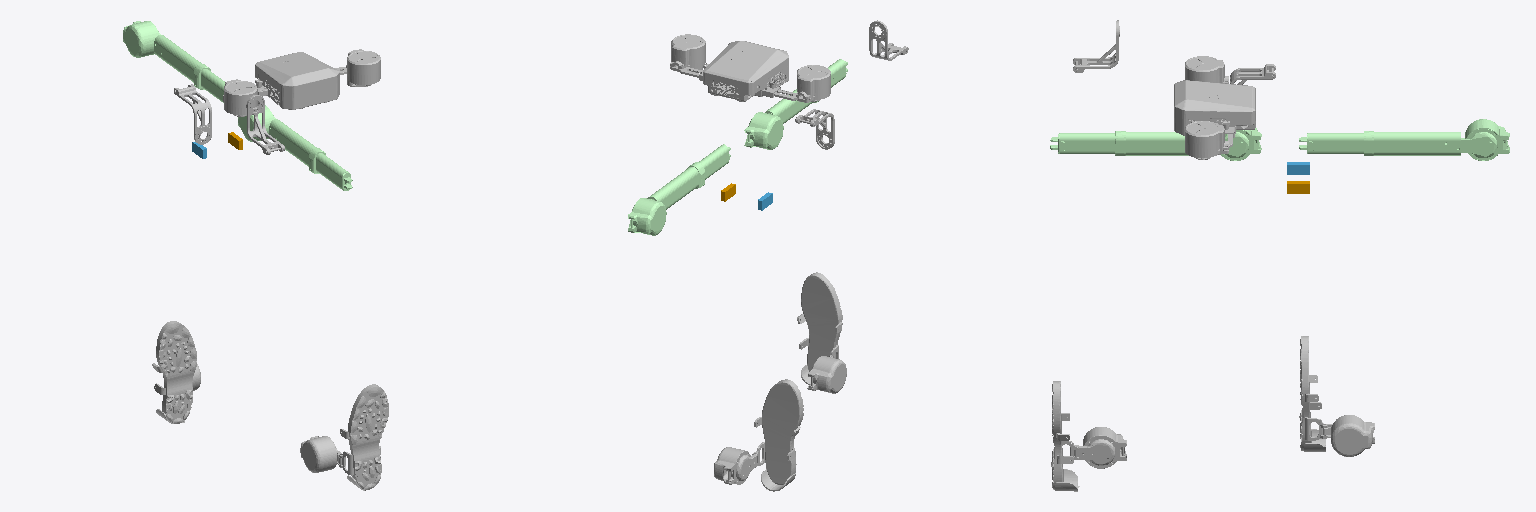
--- What the picture shows (computed from the rendered views, not written in the file) ---
The picture shows the robot from 3 angles, left to right: view 1: azimuth 30°, elevation 25°; view 2: azimuth 150°, elevation 25°; view 3: azimuth 270°, elevation 25°; orthographic projection.
Robot: exo — 12 links, 11 joints (8 revolute, 3 fixed); root link world; default pose: all joints at 0.
Links seen in each view (by area): view 1: waist_link, r_foot_link, l_foot_link, l_thigh_link, r_thigh_link, l_pel_link, r_pel_link; view 2: waist_link, l_foot_link, r_foot_link, l_thigh_link, r_thigh_link, l_pel_link, r_pel_link; view 3: waist_link, l_thigh_link, r_thigh_link, l_foot_link, r_foot_link, r_pel_link, l_pel_link.
Link boxes in pixels (left/top/right/bottom): waist_link: left=223, top=49, right=380, bottom=116; r_foot_link: left=300, top=384, right=388, bottom=490; l_foot_link: left=152, top=321, right=200, bottom=423; l_thigh_link: left=123, top=21, right=224, bottom=102; r_thigh_link: left=238, top=105, right=352, bottom=190; l_pel_link: left=174, top=84, right=211, bottom=144; r_pel_link: left=246, top=95, right=284, bottom=154; waist_link: left=670, top=34, right=830, bottom=102; l_foot_link: left=714, top=379, right=803, bottom=491; r_foot_link: left=797, top=272, right=846, bottom=393; l_thigh_link: left=628, top=144, right=730, bottom=235; r_thigh_link: left=744, top=59, right=847, bottom=149; l_pel_link: left=795, top=109, right=834, bottom=149; r_pel_link: left=869, top=20, right=908, bottom=60; waist_link: left=1174, top=56, right=1255, bottom=159; l_thigh_link: left=1299, top=119, right=1509, bottom=160; r_thigh_link: left=1050, top=128, right=1261, bottom=160; l_foot_link: left=1299, top=336, right=1374, bottom=456; r_foot_link: left=1051, top=381, right=1126, bottom=491; r_pel_link: left=1073, top=20, right=1119, bottom=72; l_pel_link: left=1230, top=64, right=1275, bottom=84.
Bounding box of the posed robot: 0.4792 × 1.02 × 1.04 m (x, y, z).
7 mesh visuals loaded from 5 distinct referenced files (4 binary STL); not drawn: 2 (reference not matched to a file when rendering).

robot.urdf — exo:
<?xml version="1.0" ?>
<!-- =================================================================================== -->
<!-- |    This document was autogenerated by xacro from exo.xacro                      | -->
<!-- |    EDITING THIS FILE BY HAND IS NOT RECOMMENDED                                 | -->
<!-- =================================================================================== -->
<robot name="exo">
  <material name="silver">
    <color rgba="0.8 0.8 0.8 1.0"/>
  </material>
  <material name="blue">
    <color rgba="0.8 1 0.8 1.0"/>
  </material>
  <material name="green">
    <color rgba="0.8 0.8 1 1.0"/>
  </material>
  <!-- Human Boday Paramters -->
  \
  
  <link name="d435_front">
    <collision>
      <origin rpy="0 0 0" xyz="0 0 0"/>
      <geometry>
        <box size="0.025 0.05 0.025"/>
      </geometry>
    </collision>
    <visual>
      <origin rpy="0 0 0" xyz="0 0 0"/>
      <geometry>
        <box size="0.0125 0.05 0.025"/>
      </geometry>
      <material name="red"/>
    </visual>
    <inertial>
      <mass value="1e-5"/>
      <origin rpy="0 0 0" xyz="0 0 0"/>
      <inertia ixx="1e-6" ixy="0" ixz="0" iyy="1e-6" iyz="0" izz="1e-6"/>
    </inertial>
  </link>
  <joint name="d435_front_joint" type="fixed">
    <axis xyz="0 1 0"/>
    <origin rpy="0 0 0" xyz="0.05 0 -0.234"/>
    <parent link="l_thigh_link"/>
    <child link="d435_front"/>
  </joint>
  <gazebo reference="d435_front">
    <sensor name="d435_front" type="depth">
      <always_on>true</always_on>
      <visualize>false</visualize>
      <camera>
        <horizontal_fov>1.3439</horizontal_fov>
        <image>
          <width>1920</width>
          <height>1080</height>
          <format>R8G8B8</format>
        </image>
        <depth_camera/>
        <clip>
          <near>0.03</near>
          <far>100</far>
        </clip>
      </camera>
      <plugin filename="libgazebo_ros_openni_kinect.so" name="camera_controller">
        <baseline>0.2</baseline>
        <alwaysOn>true</alwaysOn>
        <updateRate>30.0</updateRate>
        <cameraName>d435_front</cameraName>
        <frameName>d435_front</frameName>
        <imageTopicName>d435_front/rgb/image_raw</imageTopicName>
        <depthImageTopicName>d435_front/depth/image_raw</depthImageTopicName>
        <pointCloudTopicName>d435_front/depth/points</pointCloudTopicName>
        <cameraInfoTopicName>d435_front/rgb/camera_info</cameraInfoTopicName>
        <depthImageCameraInfoTopicName>d435_front/depth/camera_info</depthImageCameraInfoTopicName>
        <pointCloudCutoff>0.1</pointCloudCutoff>
        <hackBaseline>0.01</hackBaseline>
        <distortionK1>0.0</distortionK1>
        <distortionK2>0.0</distortionK2>
        <distortionK3>0.0</distortionK3>
        <distortionT1>0.0</distortionT1>
        <distortionT2>0.0</distortionT2>
        <CxPrime>0.0</CxPrime>
        <Cx>0.0</Cx>
        <Cy>0.0</Cy>
        <focalLength>0</focalLength>
        <hackBaseline>0</hackBaseline>
      </plugin>
    </sensor>
  </gazebo>
  <link name="d435_back">
    <collision>
      <origin rpy="0 0 0" xyz="0 0 0"/>
      <geometry>
        <box size="0.025 0.05 0.025"/>
      </geometry>
    </collision>
    <visual>
      <origin rpy="0 0 0" xyz="0 0 0"/>
      <geometry>
        <box size="0.0125 0.05 0.025"/>
      </geometry>
      <material name="red"/>
    </visual>
    <inertial>
      <mass value="1e-5"/>
      <origin rpy="0 0 0" xyz="0 0 0"/>
      <inertia ixx="1e-6" ixy="0" ixz="0" iyy="1e-6" iyz="0" izz="1e-6"/>
    </inertial>
  </link>
  <joint name="d435_back_joint" type="fixed">
    <axis xyz="0 1 0"/>
    <origin rpy="0 0 3.141592653589793" xyz="-0.05 0 -0.234"/>
    <parent link="l_thigh_link"/>
    <child link="d435_back"/>
  </joint>
  <gazebo reference="d435_back">
    <sensor name="d435_back" type="depth">
      <always_on>true</always_on>
      <visualize>false</visualize>
      <camera>
        <horizontal_fov>1.3439</horizontal_fov>
        <image>
          <width>1920</width>
          <height>1080</height>
          <format>R8G8B8</format>
        </image>
        <depth_camera/>
        <clip>
          <near>0.03</near>
          <far>100</far>
        </clip>
      </camera>
      <plugin filename="libgazebo_ros_openni_kinect.so" name="camera_controller">
        <baseline>0.2</baseline>
        <alwaysOn>true</alwaysOn>
        <updateRate>30.0</updateRate>
        <cameraName>d435_back</cameraName>
        <frameName>d435_back</frameName>
        <imageTopicName>d435_back/rgb/image_raw</imageTopicName>
        <depthImageTopicName>d435_back/depth/image_raw</depthImageTopicName>
        <pointCloudTopicName>d435_back/depth/points</pointCloudTopicName>
        <cameraInfoTopicName>d435_back/rgb/camera_info</cameraInfoTopicName>
        <depthImageCameraInfoTopicName>d435_back/depth/camera_info</depthImageCameraInfoTopicName>
        <pointCloudCutoff>0.1</pointCloudCutoff>
        <hackBaseline>0.01</hackBaseline>
        <distortionK1>0.0</distortionK1>
        <distortionK2>0.0</distortionK2>
        <distortionK3>0.0</distortionK3>
        <distortionT1>0.0</distortionT1>
        <distortionT2>0.0</distortionT2>
        <CxPrime>0.0</CxPrime>
        <Cx>0.0</Cx>
        <Cy>0.0</Cy>
        <focalLength>0</focalLength>
        <hackBaseline>0</hackBaseline>
      </plugin>
    </sensor>
  </gazebo>
  <link name="world"/>
  <joint name="pole_to_waist" type="fixed">
    <parent link="world"/>
    <child link="waist_link"/>
    <origin xyz="0 0 1.5"/>
  </joint>
  <!-- 
  <link name="human_waist_link">
    <visual>
      <origin xyz="0 0 ${-human_waist_h/2}" rpy="0 0 0" />
      <geometry>
        <box size="${human_waist_l} ${human_waist_w} ${human_waist_h}" />
      </geometry>
      <material name="black" />
    </visual>
    <collision>
      <origin xyz="0 0 ${-human_waist_h/2}" rpy="0 0 0" />
      <geometry>
        <box size="${human_waist_l} ${human_waist_w} ${human_waist_h}" />
      </geometry>
    </collision>

    <inertial>
      <origin xyz="0 0 ${-human_waist_h/2}" rpy="0 0 0" />
      <mass value="${human_waist_weight}" />
      <inertia
        ixx="${human_waist_weight / 12.0 * (human_waist_w**2 + human_waist_h**2)}"
        iyy="${human_waist_weight / 12.0 * (human_waist_l**2 + human_waist_h**2)}"
        izz="${human_waist_weight / 12.0 * (human_waist_l**2 + human_waist_w**2)}"
        ixy="0"
        ixz="0"
        iyz="0" />
    </inertial>

  </link>

  <joint name="human_waist_link_joint" type="fixed">
    <parent link="waist_link" />
    <child link="human_waist_link" />
    <origin xyz="${human_waist_l/2 + 0.08} 0 ${0}" rpy="0 0 0" />
  </joint> -->
  <link name="waist_link">
    <collision>
      <origin rpy="0 0 0" xyz="0 0 -0.025"/>
      <geometry>
        <box size="0.05 0.225 0.03"/>
      </geometry>
    </collision>
    <visual>
      <!-- <xacro:if value="${use_mesh}">
                    <mesh_filename="" />
                </xacro:if> -->
      <!-- <xacro:property name="o_rpy_parts" value="split(o_rpy)" />
                <xacro:property name="o_yaw" value="${(o_rpy_parts[2])}" /> -->
      <!-- <origin xyz="0 0 0" rpy="0 0 ${-PI}" /> -->
      <!-- <origin xyz="${-h} ${-w/2} ${-l}" rpy="${PI/2} 0 ${PI/2 + float(o_yaw)}" /> -->
      <origin rpy="1.5707963267948966 0 -1.5707963267948966" xyz="0 0.21000000000000002 -0.062"/>
      <geometry>
        <mesh filename="package://yr_description/urdf/meshes_yr/waist_center.STL" scale="0.001 0.001 0.001"/>
      </geometry>
      <origin rpy="0 0 0" xyz="0 0 -0.025"/>
      <material name="silver"/>
    </visual>
    <inertial>
      <origin rpy="0 0 0" xyz="0 0 -0.025"/>
      <mass value="2.0"/>
      <inertia ixx="0.008854166666666666" ixy="0.0" ixz="0.0" iyy="0.0008333333333333335" iyz="0.0" izz="0.008854166666666666"/>
    </inertial>
  </link>
  <link name="l_pel_link">
    <collision>
      <origin rpy="0 0 0" xyz="0 0 -0.05"/>
      <geometry>
        <box size="0.1 0.05 0.06"/>
      </geometry>
    </collision>
    <visual>
      <!-- <xacro:if value="${use_mesh}">
                    <mesh_filename="" />
                </xacro:if> -->
      <!-- <xacro:property name="o_rpy_parts" value="split(o_rpy)" />
                <xacro:property name="o_yaw" value="${(o_rpy_parts[2])}" /> -->
      <!-- <origin xyz="0 0 0" rpy="0 0 ${-PI}" /> -->
      <!-- <origin xyz="${-h} ${-w/2} ${-l}" rpy="${PI/2} 0 ${PI/2 + float(o_yaw)}" /> -->
      <origin rpy="1.5707963267948966 0 1.5707963267948966" xyz="-0.09 -0.028 -0.088"/>
      <geometry>
        <mesh filename="package://yr_description/urdf/meshes_yr/waist_corner_bracket.STL" scale="0.001 0.001 0.001"/>
      </geometry>
      <origin rpy="0 0 0" xyz="0 0 -0.05"/>
      <material name="silver"/>
    </visual>
    <inertial>
      <origin rpy="0 0 0" xyz="0 0 -0.05"/>
      <mass value="1.0"/>
      <inertia ixx="0.0010416666666666669" ixy="0.0" ixz="0.0" iyy="0.001666666666666667" iyz="0.0" izz="0.0010416666666666669"/>
    </inertial>
  </link>
  <link name="l_thigh_link">
    <collision>
      <origin rpy="0 0 0" xyz="0 0 -0.234"/>
      <geometry>
        <box size="0.1 0.1 0.2808"/>
      </geometry>
    </collision>
    <visual>
      <!-- <xacro:if value="${use_mesh}">
                    <mesh_filename="" />
                </xacro:if> -->
      <!-- <xacro:property name="o_rpy_parts" value="split(o_rpy)" />
                <xacro:property name="o_yaw" value="${(o_rpy_parts[2])}" /> -->
      <!-- <origin xyz="0 0 0" rpy="0 0 ${-PI}" /> -->
      <!-- <origin xyz="${-h} ${-w/2} ${-l}" rpy="${PI/2} 0 ${PI/2 + float(o_yaw)}" /> -->
      <origin rpy="1.5707963267948966 0 4.71238898038469" xyz="0.1 0.05 -0.468"/>
      <geometry>
        <mesh filename="package://yr_description/urdf/meshes_yr/exo_thigh.STL" scale="0.001 0.001 0.001"/>
      </geometry>
      <origin rpy="0 0 0" xyz="0 0 -0.234"/>
      <material name="blue"/>
    </visual>
    <inertial>
      <origin rpy="0 0 0" xyz="0 0 -0.234"/>
      <mass value="1.5"/>
      <inertia ixx="0.028628000000000004" ixy="0.0" ixz="0.0" iyy="0.028628000000000004" iyz="0.0" izz="0.0025000000000000005"/>
    </inertial>
  </link>
  <link name="l_shank_link">
    <collision>
      <origin rpy="0 0 0" xyz="0 0 -0.234"/>
      <geometry>
        <box size="0.1 0.1 0.2808"/>
      </geometry>
    </collision>
    <visual>
      <!-- <xacro:if value="${use_mesh}">
                    <mesh_filename="" />
                </xacro:if> -->
      <!-- <xacro:property name="o_rpy_parts" value="split(o_rpy)" />
                <xacro:property name="o_yaw" value="${(o_rpy_parts[2])}" /> -->
      <!-- <origin xyz="0 0 0" rpy="0 0 ${-PI}" /> -->
      <!-- <origin xyz="${-h} ${-w/2} ${-l}" rpy="${PI/2} 0 ${PI/2 + float(o_yaw)}" /> -->
      <origin rpy="1.5707963267948966 0 4.71238898038469" xyz="0.1 0.05 -0.468"/>
      <geometry>
        <mesh filename="package://yr_description/urdf/meshes_yr/exo_shank.STL" scale="0.001 0.001 0.001"/>
      </geometry>
      <origin rpy="0 0 0" xyz="0 0 -0.234"/>
      <material name="green"/>
    </visual>
    <inertial>
      <origin rpy="0 0 0" xyz="0 0 -0.234"/>
      <mass value="1.5"/>
      <inertia ixx="0.028628000000000004" ixy="0.0" ixz="0.0" iyy="0.028628000000000004" iyz="0.0" izz="0.0025000000000000005"/>
    </inertial>
  </link>
  <!-- <xacro:create_link2 name="l_foot_link" m="${foot_m}" l="${foot_h}" w="${foot_w}"
    h="${foot_l}" o_x="${-foot_h}" o_y="${foot_w}" o_z="${-foot_l}" o_r="0" o_p="0" o_yaw="0"
    mat="${foot_mat}"
    mesh_filename="${foot_mesh}" mirror="-1" /> -->
  <link name="l_foot_link">
    <collision>
      <origin rpy="0 0 0" xyz="0.05 0 -0.1"/>
      <geometry>
        <box size="0.2 0.08 0.075"/>
      </geometry>
    </collision>
    <visual>
      <origin rpy="1.5707963267948966 0 1.5707963267948966" xyz="-0.1 0.08 -0.15"/>
      <geometry>
        <mesh filename="package://yr_description/urdf/meshes_yr/exo_foot.STL" scale="-0.001 0.001 0.001"/>
      </geometry>
      <origin rpy="0 0 0" xyz="0 0 -0.05"/>
      <material name="silver"/>
    </visual>
    <inertial>
      <origin rpy="0 0 0" xyz="0 0 -0.05"/>
      <mass value="1.0"/>
      <inertia ixx="0.0013666666666666666" ixy="0.0" ixz="0.0" iyy="0.0027083333333333334" iyz="0.0" izz="0.002408333333333333"/>
    </inertial>
  </link>
  <link name="r_pel_link">
    <collision>
      <origin rpy="0 0 0" xyz="0 0 -0.05"/>
      <geometry>
        <box size="0.1 0.05 0.06"/>
      </geometry>
    </collision>
    <visual>
      <!-- <xacro:if value="${use_mesh}">
                    <mesh_filename="" />
                </xacro:if> -->
      <!-- <xacro:property name="o_rpy_parts" value="split(o_rpy)" />
                <xacro:property name="o_yaw" value="${(o_rpy_parts[2])}" /> -->
      <!-- <origin xyz="0 0 0" rpy="0 0 ${-PI}" /> -->
      <!-- <origin xyz="${-h} ${-w/2} ${-l}" rpy="${PI/2} 0 ${PI/2 + float(o_yaw)}" /> -->
      <origin rpy="1.5707963267948966 0 1.5707963267948966" xyz="-0.09 -0.028 -0.088"/>
      <geometry>
        <mesh filename="package://yr_description/urdf/meshes_yr/waist_corner_bracket.STL" scale="0.001 0.001 0.001"/>
      </geometry>
      <origin rpy="0 0 0" xyz="0 0 -0.05"/>
      <material name="silver"/>
    </visual>
    <inertial>
      <origin rpy="0 0 0" xyz="0 0 -0.05"/>
      <mass value="1.0"/>
      <inertia ixx="0.0010416666666666669" ixy="0.0" ixz="0.0" iyy="0.001666666666666667" iyz="0.0" izz="0.0010416666666666669"/>
    </inertial>
  </link>
  <link name="r_thigh_link">
    <collision>
      <origin rpy="0 0 0" xyz="0 0 -0.234"/>
      <geometry>
        <box size="0.1 0.1 0.2808"/>
      </geometry>
    </collision>
    <visual>
      <!-- <xacro:if value="${use_mesh}">
                    <mesh_filename="" />
                </xacro:if> -->
      <!-- <xacro:property name="o_rpy_parts" value="split(o_rpy)" />
                <xacro:property name="o_yaw" value="${(o_rpy_parts[2])}" /> -->
      <!-- <origin xyz="0 0 0" rpy="0 0 ${-PI}" /> -->
      <!-- <origin xyz="${-h} ${-w/2} ${-l}" rpy="${PI/2} 0 ${PI/2 + float(o_yaw)}" /> -->
      <origin rpy="1.5707963267948966 0 1.5707963267948966" xyz="-0.1 -0.05 -0.468"/>
      <geometry>
        <mesh filename="package://yr_description/urdf/meshes_yr/exo_thigh.STL" scale="0.001 0.001 0.001"/>
      </geometry>
      <origin rpy="0 0 0" xyz="0 0 -0.234"/>
      <material name="blue"/>
    </visual>
    <inertial>
      <origin rpy="0 0 0" xyz="0 0 -0.234"/>
      <mass value="1.5"/>
      <inertia ixx="0.028628000000000004" ixy="0.0" ixz="0.0" iyy="0.028628000000000004" iyz="0.0" izz="0.0025000000000000005"/>
    </inertial>
  </link>
  <link name="r_shank_link">
    <collision>
      <origin rpy="0 0 0" xyz="0 0 -0.234"/>
      <geometry>
        <box size="0.1 0.1 0.2808"/>
      </geometry>
    </collision>
    <visual>
      <!-- <xacro:if value="${use_mesh}">
                    <mesh_filename="" />
                </xacro:if> -->
      <!-- <xacro:property name="o_rpy_parts" value="split(o_rpy)" />
                <xacro:property name="o_yaw" value="${(o_rpy_parts[2])}" /> -->
      <!-- <origin xyz="0 0 0" rpy="0 0 ${-PI}" /> -->
      <!-- <origin xyz="${-h} ${-w/2} ${-l}" rpy="${PI/2} 0 ${PI/2 + float(o_yaw)}" /> -->
      <origin rpy="1.5707963267948966 0 1.5707963267948966" xyz="-0.1 -0.05 -0.468"/>
      <geometry>
        <mesh filename="package://yr_description/urdf/meshes_yr/exo_shank.STL" scale="0.001 0.001 0.001"/>
      </geometry>
      <origin rpy="0 0 0" xyz="0 0 -0.234"/>
      <material name="green"/>
    </visual>
    <inertial>
      <origin rpy="0 0 0" xyz="0 0 -0.234"/>
      <mass value="1.5"/>
      <inertia ixx="0.028628000000000004" ixy="0.0" ixz="0.0" iyy="0.028628000000000004" iyz="0.0" izz="0.0025000000000000005"/>
    </inertial>
  </link>
  <!-- <xacro:create_link2 name="r_foot_link" m="${foot_m}" l="${foot_h}" w="${foot_w}"
    h="${foot_l}" o_x="${-foot_h}" o_y="${-foot_w}" o_z="${-foot_l}" o_r="0" o_p="0" o_yaw="0"
    mat="${foot_mat}"
    mesh_filename="${foot_mesh}" mirror="1" /> -->
  <link name="r_foot_link">
    <collision>
      <origin rpy="0 0 0" xyz="0.05 0 -0.1"/>
      <geometry>
        <box size="0.2 0.08 0.075"/>
      </geometry>
    </collision>
    <visual>
      <origin rpy="1.5707963267948966 0 1.5707963267948966" xyz="-0.1 -0.08 -0.15"/>
      <geometry>
        <mesh filename="package://yr_description/urdf/meshes_yr/exo_foot.STL" scale="0.001 0.001 0.001"/>
      </geometry>
      <origin rpy="0 0 0" xyz="0 0 -0.05"/>
      <material name="silver"/>
    </visual>
    <inertial>
      <origin rpy="0 0 0" xyz="0 0 -0.05"/>
      <mass value="1.0"/>
      <inertia ixx="0.0013666666666666666" ixy="0.0" ixz="0.0" iyy="0.0027083333333333334" iyz="0.0" izz="0.002408333333333333"/>
    </inertial>
  </link>
  <joint name="yr_l_pel_joint" type="revolute">
    <parent link="waist_link"/>
    <child link="l_pel_link"/>
    <origin rpy="-1.5707963267948966 0 -3.141592653589793" xyz="0 0.175 0"/>
    <axis xyz="1 0 0"/>
    <limit effort="1000" lower="-1.5707963267948966" upper="1.5707963267948966" velocity="10.0"/>
  </joint>
  <joint name="yr_l_hip_joint" type="revolute">
    <parent link="l_pel_link"/>
    <child link="l_thigh_link"/>
    <origin rpy="-1.5707963267948966 0 -3.141592653589793" xyz="-0.1 -0.025 -0.1"/>
    <axis xyz="0 1 0"/>
    <limit effort="1000" lower="-2.356194490192345" upper="2.356194490192345" velocity="10.0"/>
  </joint>
  <joint name="yr_l_kne_joint" type="revolute">
    <parent link="l_thigh_link"/>
    <child link="l_shank_link"/>
    <origin rpy="0 0 0" xyz="0 0 -0.468"/>
    <axis xyz="0 1 0"/>
    <limit effort="1000" lower="-0.7853981633974483" upper="3.141592653589793" velocity="10.0"/>
  </joint>
  <joint name="yr_l_ank_joint" type="revolute">
    <parent link="l_shank_link"/>
    <child link="l_foot_link"/>
    <origin rpy="0 0 0" xyz="0 0 -0.468"/>
    <axis xyz="0 1 0"/>
    <limit effort="1000" lower="-0.7853981633974483" upper="1.5707963267948966" velocity="10.0"/>
  </joint>
  <joint name="yr_r_pel_joint" type="revolute">
    <parent link="waist_link"/>
    <child link="r_pel_link"/>
    <origin rpy="1.5707963267948966 0 -3.141592653589793" xyz="0 -0.175 0"/>
    <axis xyz="1 0 0"/>
    <limit effort="1000" lower="-1.5707963267948966" upper="1.5707963267948966" velocity="10.0"/>
  </joint>
  <joint name="yr_r_hip_joint" type="revolute">
    <parent link="r_pel_link"/>
    <child link="r_thigh_link"/>
    <origin rpy="1.5707963267948966 0 -3.141592653589793" xyz="-0.1 0.025 -0.1"/>
    <axis xyz="0 1 0"/>
    <limit effort="1000" lower="-2.356194490192345" upper="2.356194490192345" velocity="10.0"/>
  </joint>
  <joint name="yr_r_kne_joint" type="revolute">
    <parent link="r_thigh_link"/>
    <child link="r_shank_link"/>
    <origin rpy="0 0 0" xyz="0 0 -0.468"/>
    <axis xyz="0 1 0"/>
    <limit effort="1000" lower="-0.7853981633974483" upper="3.141592653589793" velocity="10.0"/>
  </joint>
  <joint name="yr_r_ank_joint" type="revolute">
    <parent link="r_shank_link"/>
    <child link="r_foot_link"/>
    <origin rpy="0 0 0" xyz="0 0 -0.468"/>
    <axis xyz="0 1 0"/>
    <limit effort="1000" lower="-0.7853981633974483" upper="1.5707963267948966" velocity="10.0"/>
  </joint>
  <gazebo>
    <plugin filename="libgazebo_ros_control.so" name="gazebo_ros_control">
      <robotNamespace>/exo</robotNamespace>
      <robotSimType>gazebo_ros_control/DefaultRobotHWSim</robotSimType>
    </plugin>
  </gazebo>
  <transmission name="yr_l_pel_joint_tran">
    <type>transmission_interface/SimpleTransmission</type>
    <joint name="yr_l_pel_joint">
      <hardwareInterface>hardware_interface/EffortJointInterface</hardwareInterface>
    </joint>
    <actuator name="yr_l_pel_joint_motor">
      <hardwareInterface>EffortJointInterface</hardwareInterface>
      <mechanicalReduction>1</mechanicalReduction>
    </actuator>
  </transmission>
  <transmission name="yr_l_hip_joint_tran">
    <type>transmission_interface/SimpleTransmission</type>
    <joint name="yr_l_hip_joint">
      <hardwareInterface>hardware_interface/EffortJointInterface</hardwareInterface>
    </joint>
    <actuator name="yr_l_hip_joint_motor">
      <hardwareInterface>EffortJointInterface</hardwareInterface>
      <mechanicalReduction>1</mechanicalReduction>
    </actuator>
  </transmission>
  <transmission name="yr_l_kne_joint_tran">
    <type>transmission_interface/SimpleTransmission</type>
    <joint name="yr_l_kne_joint">
      <hardwareInterface>hardware_interface/EffortJointInterface</hardwareInterface>
    </joint>
    <actuator name="yr_l_kne_joint_motor">
      <hardwareInterface>EffortJointInterface</hardwareInterface>
      <mechanicalReduction>1</mechanicalReduction>
    </actuator>
  </transmission>
  <transmission name="yr_l_ank_joint_tran">
    <type>transmission_interface/SimpleTransmission</type>
    <joint name="yr_l_ank_joint">
      <hardwareInterface>hardware_interface/EffortJointInterface</hardwareInterface>
    </joint>
    <actuator name="yr_l_ank_joint_motor">
      <hardwareInterface>EffortJointInterface</hardwareInterface>
      <mechanicalReduction>1</mechanicalReduction>
    </actuator>
  </transmission>
  <transmission name="yr_r_pel_joint_tran">
    <type>transmission_interface/SimpleTransmission</type>
    <joint name="yr_r_pel_joint">
      <hardwareInterface>hardware_interface/EffortJointInterface</hardwareInterface>
    </joint>
    <actuator name="yr_r_pel_joint_motor">
      <hardwareInterface>EffortJointInterface</hardwareInterface>
      <mechanicalReduction>1</mechanicalReduction>
    </actuator>
  </transmission>
  <transmission name="yr_r_hip_joint_tran">
    <type>transmission_interface/SimpleTransmission</type>
    <joint name="yr_r_hip_joint">
      <hardwareInterface>hardware_interface/EffortJointInterface</hardwareInterface>
    </joint>
    <actuator name="yr_r_hip_joint_motor">
      <hardwareInterface>EffortJointInterface</hardwareInterface>
      <mechanicalReduction>1</mechanicalReduction>
    </actuator>
  </transmission>
  <transmission name="yr_r_kne_joint_tran">
    <type>transmission_interface/SimpleTransmission</type>
    <joint name="yr_r_kne_joint">
      <hardwareInterface>hardware_interface/EffortJointInterface</hardwareInterface>
    </joint>
    <actuator name="yr_r_kne_joint_motor">
      <hardwareInterface>EffortJointInterface</hardwareInterface>
      <mechanicalReduction>1</mechanicalReduction>
    </actuator>
  </transmission>
  <transmission name="yr_r_ank_joint_tran">
    <type>transmission_interface/SimpleTransmission</type>
    <joint name="yr_r_ank_joint">
      <hardwareInterface>hardware_interface/EffortJointInterface</hardwareInterface>
    </joint>
    <actuator name="yr_r_ank_joint_motor">
      <hardwareInterface>EffortJointInterface</hardwareInterface>
      <mechanicalReduction>1</mechanicalReduction>
    </actuator>
  </transmission>
  <gazebo reference="human_waist_link">
    <mu1>1.0</mu1>
    <mu2>1.0</mu2>
    <self_collide>0</self_collide>
    <material>Gazebo/White</material>
    <visual>
      <material>
        <ambient>0.7 0.7 0.7 1</ambient>
        <diffuse>0.7 0.7 0.7 1</diffuse>
        <specular>0.1 0.1 0.1 1</specular>
        <emissive>0 0 0 0</emissive>
      </material>
    </visual>
    <!-- <collision>
                <surface>
                    <friction>
                        <ode>
                            <mu1>2</mu1>
                            <mu2>2</mu2>
                            <kp value="1000000.0" />
                            <kd value="1000.0" />
                        </ode>
                    </friction>
                </surface>

            </collision> -->
  </gazebo>
  <gazebo reference="waist_link">
    <mu1>1.0</mu1>
    <mu2>1.0</mu2>
    <self_collide>0</self_collide>
    <material>Gazebo/White</material>
    <visual>
      <material>
        <ambient>0.7 0.7 0.7 1</ambient>
        <diffuse>0.7 0.7 0.7 1</diffuse>
        <specular>0.1 0.1 0.1 1</specular>
        <emissive>0 0 0 0</emissive>
      </material>
    </visual>
    <!-- <collision>
                <surface>
                    <friction>
                        <ode>
                            <mu1>2</mu1>
                            <mu2>2</mu2>
                            <kp value="1000000.0" />
                            <kd value="1000.0" />
                        </ode>
                    </friction>
                </surface>

            </collision> -->
  </gazebo>
  <gazebo reference="l_pel_link">
    <mu1>1.0</mu1>
    <mu2>1.0</mu2>
    <self_collide>0</self_collide>
    <material>Gazebo/White</material>
    <visual>
      <material>
        <ambient>0.7 0.7 0.7 1</ambient>
        <diffuse>0.7 0.7 0.7 1</diffuse>
        <specular>0.1 0.1 0.1 1</specular>
        <emissive>0 0 0 0</emissive>
      </material>
    </visual>
    <!-- <collision>
                <surface>
                    <friction>
                        <ode>
                            <mu1>2</mu1>
                            <mu2>2</mu2>
                            <kp value="1000000.0" />
                            <kd value="1000.0" />
                        </ode>
                    </friction>
                </surface>

            </collision> -->
  </gazebo>
  <gazebo reference="l_thigh_link">
    <mu1>1.0</mu1>
    <mu2>1.0</mu2>
    <self_collide>0</self_collide>
    <material>Gazebo/White</material>
    <visual>
      <material>
        <ambient>0.7 0.7 0.7 1</ambient>
        <diffuse>0.7 0.7 0.7 1</diffuse>
        <specular>0.1 0.1 0.1 1</specular>
        <emissive>0 0 0 0</emissive>
      </material>
    </visual>
    <!-- <collision>
                <surface>
                    <friction>
                        <ode>
                            <mu1>2</mu1>
                            <mu2>2</mu2>
                            <kp value="1000000.0" />
                            <kd value="1000.0" />
                        </ode>
                    </friction>
                </surface>

            </collision> -->
  </gazebo>
  <gazebo reference="l_shank_link">
    <mu1>1.0</mu1>
    <mu2>1.0</mu2>
    <self_collide>0</self_collide>
    <material>Gazebo/White</material>
    <visual>
      <material>
        <ambient>0.8 0.8 0.8 1</ambient>
        <diffuse>0.8 0.8 0.8 1</diffuse>
        <specular>0.1 0.1 0.1 1</specular>
        <emissive>0 0 0 0</emissive>
      </material>
    </visual>
    <!-- <collision>
                <surface>
                    <friction>
                        <ode>
                            <mu1>2</mu1>
                            <mu2>2</mu2>
                            <kp value="1000000.0" />
                            <kd value="1000.0" />
                        </ode>
                    </friction>
                </surface>

            </collision> -->
  </gazebo>
  <gazebo reference="l_foot_link">
    <mu1>3.0</mu1>
    <mu2>3.0</mu2>
    <self_collide>0</self_collide>
    <material>Gazebo/White</material>
    <visual>
      <material>
        <ambient>0.7 0.7 0.7 1</ambient>
        <diffuse>0.7 0.7 0.7 1</diffuse>
        <specular>0.1 0.1 0.1 1</specular>
        <emissive>0 0 0 0</emissive>
      </material>
    </visual>
    <!-- <collision>
                <surface>
                    <friction>
                        <ode>
                            <mu1>2</mu1>
                            <mu2>2</mu2>
                            <kp value="1000000.0" />
                            <kd value="1000.0" />
                        </ode>
                    </friction>
                </surface>

            </collision> -->
  </gazebo>
  <gazebo reference="r_pel_link">
    <mu1>1.0</mu1>
    <mu2>1.0</mu2>
    <self_collide>0</self_collide>
    <material>Gazebo/White</material>
    <visual>
      <material>
        <ambient>0.7 0.7 0.7 1</ambient>
        <diffuse>0.7 0.7 0.7 1</diffuse>
        <specular>0.1 0.1 0.1 1</specular>
        <emissive>0 0 0 0</emissive>
      </material>
    </visual>
    <!-- <collision>
                <surface>
                    <friction>
                        <ode>
                            <mu1>2</mu1>
                            <mu2>2</mu2>
                            <kp value="1000000.0" />
                            <kd value="1000.0" />
                        </ode>
                    </friction>
                </surface>

            </collision> -->
  </gazebo>
  <gazebo reference="r_thigh_link">
    <mu1>1.0</mu1>
    <mu2>1.0</mu2>
    <self_collide>0</self_collide>
    <material>Gazebo/White</material>
    <visual>
      <material>
        <ambient>0.7 0.7 0.7 1</ambient>
        <diffuse>0.7 0.7 0.7 1</diffuse>
        <specular>0.1 0.1 0.1 1</specular>
        <emissive>0 0 0 0</emissive>
      </material>
    </visual>
    <!-- <collision>
                <surface>
                    <friction>
                        <ode>
                            <mu1>2</mu1>
                            <mu2>2</mu2>
                            <kp value="1000000.0" />
                            <kd value="1000.0" />
                        </ode>
                    </friction>
                </surface>

            </collision> -->
  </gazebo>
  <gazebo reference="r_shank_link">
    <mu1>1.0</mu1>
    <mu2>1.0</mu2>
    <self_collide>0</self_collide>
    <material>Gazebo/White</material>
    <visual>
      <material>
        <ambient>0.7 0.7 0.7 1</ambient>
        <diffuse>0.7 0.7 0.7 1</diffuse>
        <specular>0.1 0.1 0.1 1</specular>
        <emissive>0 0 0 0</emissive>
      </material>
    </visual>
    <!-- <collision>
                <surface>
                    <friction>
                        <ode>
                            <mu1>2</mu1>
                            <mu2>2</mu2>
                            <kp value="1000000.0" />
                            <kd value="1000.0" />
                        </ode>
                    </friction>
                </surface>

            </collision> -->
  </gazebo>
  <gazebo reference="r_foot_link">
    <mu1>3.0</mu1>
    <mu2>3.0</mu2>
    <self_collide>0</self_collide>
    <material>Gazebo/White</material>
    <visual>
      <material>
        <ambient>0.7 0.7 0.7 1</ambient>
        <diffuse>0.7 0.7 0.7 1</diffuse>
        <specular>0.1 0.1 0.1 1</specular>
        <emissive>0 0 0 0</emissive>
      </material>
    </visual>
    <!-- <collision>
                <surface>
                    <friction>
                        <ode>
                            <mu1>2</mu1>
                            <mu2>2</mu2>
                            <kp value="1000000.0" />
                            <kd value="1000.0" />
                        </ode>
                    </friction>
                </surface>

            </collision> -->
  </gazebo>
  <!-- 
  <xacro:define_gazebo_material link_name="stand_base" r="0.4" g="0.4" b="0.4" a="0.5" />
  <xacro:define_gazebo_material link_name="support_pole" r="0.4" g="0.4" b="0.4" a="0.5" />
 -->
  <gazebo reference="l_pel_link">
    <gravity>true</gravity>
    <sensor name="yr_l_pel_joint" type="imu">
      <always_on>true</always_on>
      <update_rate>100</update_rate>
      <visualize>true</visualize>
      <topic>yr_l_pel_joint/imu_data</topic>
      <plugin filename="libgazebo_ros_imu_sensor.so" name="imu_plugin">
        <topicName>yr_l_pel_joint/imu_data</topicName>
        <bodyName>yr_l_pel_joint_imu</bodyName>
        <updateRateHZ>10.0</updateRateHZ>
        <gaussianNoise>0.0</gaussianNoise>
        <xyzOffset>0 0 0</xyzOffset>
        <rpyOffset>0 0 0</rpyOffset>
        <frameName>yr_l_pel_joint_imu</frameName>
        <initialOrientationAsReference>false</initialOrientationAsReference>
      </plugin>
      <pose>0 0 0 0 0 0</pose>
    </sensor>
  </gazebo>
  <gazebo reference="l_thigh_link">
    <gravity>true</gravity>
    <sensor name="yr_l_hip_joint" type="imu">
      <always_on>true</always_on>
      <update_rate>100</update_rate>
      <visualize>true</visualize>
      <topic>yr_l_hip_joint/imu_data</topic>
      <plugin filename="libgazebo_ros_imu_sensor.so" name="imu_plugin">
        <topicName>yr_l_hip_joint/imu_data</topicName>
        <bodyName>yr_l_hip_joint_imu</bodyName>
        <updateRateHZ>10.0</updateRateHZ>
        <gaussianNoise>0.0</gaussianNoise>
        <xyzOffset>0 0 0</xyzOffset>
        <rpyOffset>0 0 0</rpyOffset>
        <frameName>yr_l_hip_joint_imu</frameName>
        <initialOrientationAsReference>false</initialOrientationAsReference>
      </plugin>
      <pose>0 0 0 0 0 0</pose>
    </sensor>
  </gazebo>
  <gazebo reference="l_shank_link">
    <gravity>true</gravity>
    <sensor name="yr_l_kne_joint" type="imu">
      <always_on>true</always_on>
      <update_rate>100</update_rate>
      <visualize>true</visualize>
      <topic>yr_l_kne_joint/imu_data</topic>
      <plugin filename="libgazebo_ros_imu_sensor.so" name="imu_plugin">
        <topicName>yr_l_kne_joint/imu_data</topicName>
        <bodyName>yr_l_kne_joint_imu</bodyName>
        <updateRateHZ>10.0</updateRateHZ>
        <gaussianNoise>0.0</gaussianNoise>
        <xyzOffset>0 0 0</xyzOffset>
        <rpyOffset>0 0 0</rpyOffset>
        <frameName>yr_l_kne_joint_imu</frameName>
        <initialOrientationAsReference>false</initialOrientationAsReference>
      </plugin>
      <pose>0 0 0 0 0 0</pose>
    </sensor>
  </gazebo>
  <gazebo reference="l_foot_link">
    <gravity>true</gravity>
    <sensor name="yr_l_ank_joint" type="imu">
      <always_on>true</always_on>
      <update_rate>100</update_rate>
      <visualize>true</visualize>
      <topic>yr_l_ank_joint/imu_data</topic>
      <plugin filename="libgazebo_ros_imu_sensor.so" name="imu_plugin">
        <topicName>yr_l_ank_joint/imu_data</topicName>
        <bodyName>yr_l_ank_joint_imu</bodyName>
        <updateRateHZ>10.0</updateRateHZ>
        <gaussianNoise>0.0</gaussianNoise>
        <xyzOffset>0 0 0</xyzOffset>
        <rpyOffset>0 0 0</rpyOffset>
        <frameName>yr_l_ank_joint_imu</frameName>
        <initialOrientationAsReference>false</initialOrientationAsReference>
      </plugin>
      <pose>0 0 0 0 0 0</pose>
    </sensor>
  </gazebo>
  <gazebo reference="r_pel_link">
    <gravity>true</gravity>
    <sensor name="yr_r_pel_joint" type="imu">
      <always_on>true</always_on>
      <update_rate>100</update_rate>
      <visualize>true</visualize>
      <topic>yr_r_pel_joint/imu_data</topic>
      <plugin filename="libgazebo_ros_imu_sensor.so" name="imu_plugin">
        <topicName>yr_r_pel_joint/imu_data</topicName>
        <bodyName>yr_r_pel_joint_imu</bodyName>
        <updateRateHZ>10.0</updateRateHZ>
        <gaussianNoise>0.0</gaussianNoise>
        <xyzOffset>0 0 0</xyzOffset>
        <rpyOffset>0 0 0</rpyOffset>
        <frameName>yr_r_pel_joint_imu</frameName>
        <initialOrientationAsReference>false</initialOrientationAsReference>
      </plugin>
      <pose>0 0 0 0 0 0</pose>
    </sensor>
  </gazebo>
  <gazebo reference="r_thigh_link">
    <gravity>true</gravity>
    <sensor name="yr_r_hip_joint" type="imu">
      <always_on>true</always_on>
      <update_rate>100</update_rate>
      <visualize>true</visualize>
      <topic>yr_r_hip_joint/imu_data</topic>
      <plugin filename="libgazebo_ros_imu_sensor.so" name="imu_plugin">
        <topicName>yr_r_hip_joint/imu_data</topicName>
        <bodyName>yr_r_hip_joint_imu</bodyName>
        <updateRateHZ>10.0</updateRateHZ>
        <gaussianNoise>0.0</gaussianNoise>
        <xyzOffset>0 0 0</xyzOffset>
        <rpyOffset>0 0 0</rpyOffset>
        <frameName>yr_r_hip_joint_imu</frameName>
        <initialOrientationAsReference>false</initialOrientationAsReference>
      </plugin>
      <pose>0 0 0 0 0 0</pose>
    </sensor>
  </gazebo>
  <gazebo reference="r_shank_link">
    <gravity>true</gravity>
    <sensor name="yr_r_kne_joint" type="imu">
      <always_on>true</always_on>
      <update_rate>100</update_rate>
      <visualize>true</visualize>
      <topic>yr_r_kne_joint/imu_data</topic>
      <plugin filename="libgazebo_ros_imu_sensor.so" name="imu_plugin">
        <topicName>yr_r_kne_joint/imu_data</topicName>
        <bodyName>yr_r_kne_joint_imu</bodyName>
        <updateRateHZ>10.0</updateRateHZ>
        <gaussianNoise>0.0</gaussianNoise>
        <xyzOffset>0 0 0</xyzOffset>
        <rpyOffset>0 0 0</rpyOffset>
        <frameName>yr_r_kne_joint_imu</frameName>
        <initialOrientationAsReference>false</initialOrientationAsReference>
      </plugin>
      <pose>0 0 0 0 0 0</pose>
    </sensor>
  </gazebo>
  <gazebo reference="r_foot_link">
    <gravity>true</gravity>
    <sensor name="yr_r_ank_joint" type="imu">
      <always_on>true</always_on>
      <update_rate>100</update_rate>
      <visualize>true</visualize>
      <topic>yr_r_ank_joint/imu_data</topic>
      <plugin filename="libgazebo_ros_imu_sensor.so" name="imu_plugin">
        <topicName>yr_r_ank_joint/imu_data</topicName>
        <bodyName>yr_r_ank_joint_imu</bodyName>
        <updateRateHZ>10.0</updateRateHZ>
        <gaussianNoise>0.0</gaussianNoise>
        <xyzOffset>0 0 0</xyzOffset>
        <rpyOffset>0 0 0</rpyOffset>
        <frameName>yr_r_ank_joint_imu</frameName>
        <initialOrientationAsReference>false</initialOrientationAsReference>
      </plugin>
      <pose>0 0 0 0 0 0</pose>
    </sensor>
  </gazebo>
  <!-- 
  <xacro:include filename="$(find realsense_ros_gazebo)/xacro/depthcam.xacro"/>

  <xacro:realsense_d435 sensor_name="d435_front" parent_link="l_thigh_link" rate="10">
    <origin rpy="${PI/2} ${PI/3} 0 " xyz="0 0 ${-thigh_l/2}"/>
  </xacro:realsense_d435>

  <xacro:realsense_d435 sensor_name="d435_back" parent_link="l_thigh_link" rate="10">
    <origin rpy="${PI/2} ${PI/3} ${PI}" xyz="0 0 ${-thigh_l/2}"/>
  </xacro:realsense_d435> -->
</robot>
